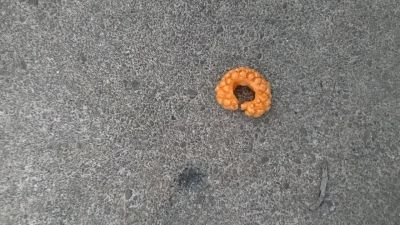eggs: (216, 66, 274, 120)
